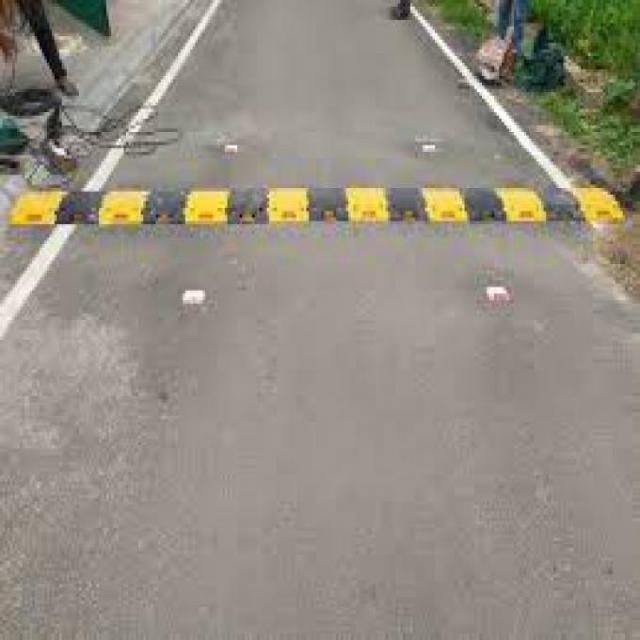speedbreaker: (1, 170, 636, 233)
